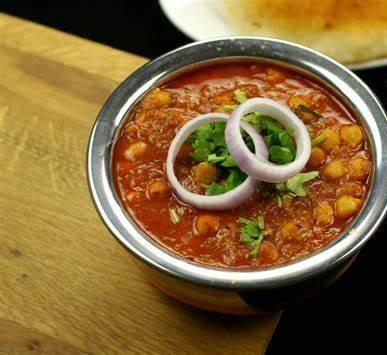Chole: (111, 62, 373, 271)
